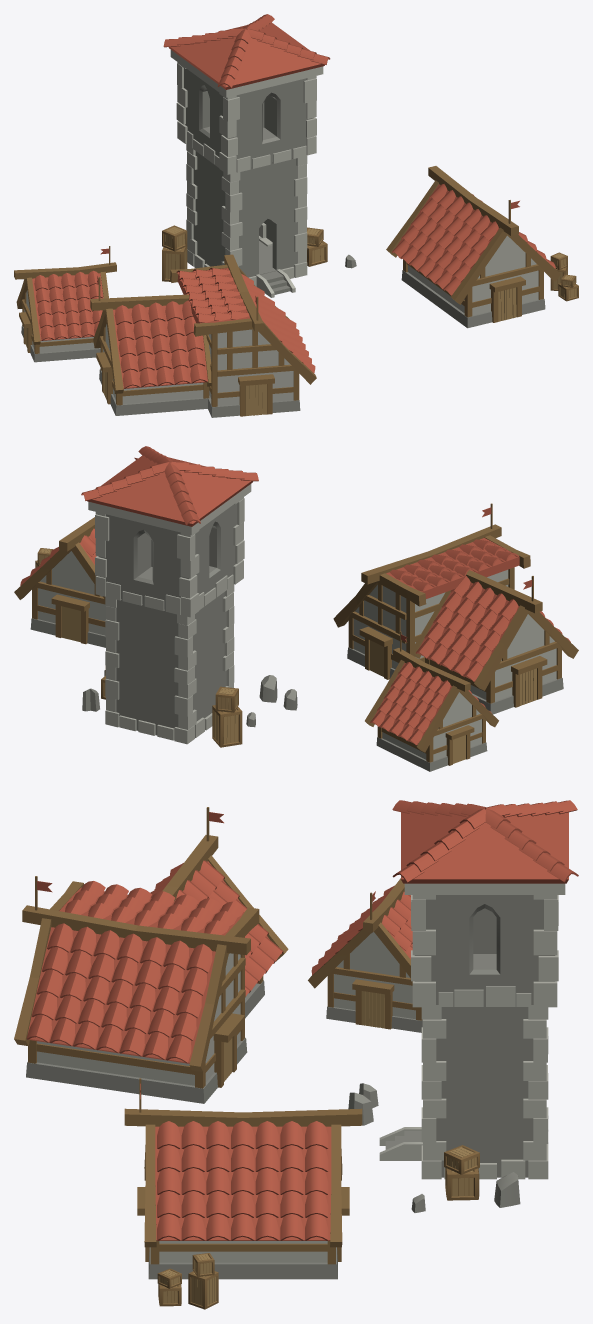
The model's file is civ-MC-VI.glb.
3 views of the same model, one above another, from view 1: azimuth 30°, elevation 25°; view 2: azimuth 150°, elevation 25°; view 3: azimuth 270°, elevation 25° (orthographic). The views are drawn at different scales.
Visible parts, largest first — view 1: WatchTower_SecondAge_Level1, Houses_SecondAge_2_Level3, Houses_SecondAge_1_Level2; view 2: WatchTower_SecondAge_Level1, Houses_SecondAge_2_Level3, Houses_SecondAge_1_Level2; view 3: Houses_SecondAge_2_Level3, WatchTower_SecondAge_Level1, Houses_SecondAge_1_Level2.
Boxes of the visible parts, x1,y1,x2,y2 form: WatchTower_SecondAge_Level1: (162, 14, 356, 297); Houses_SecondAge_2_Level3: (14, 246, 316, 417); Houses_SecondAge_1_Level2: (386, 166, 578, 328); WatchTower_SecondAge_Level1: (81, 446, 297, 747); Houses_SecondAge_2_Level3: (333, 503, 578, 771); Houses_SecondAge_1_Level2: (14, 457, 137, 647); Houses_SecondAge_2_Level3: (14, 807, 422, 1103); WatchTower_SecondAge_Level1: (348, 800, 578, 1212); Houses_SecondAge_1_Level2: (124, 1078, 362, 1309).
Size of the model in its own units: 3.96 by 1.89 by 2.79.
